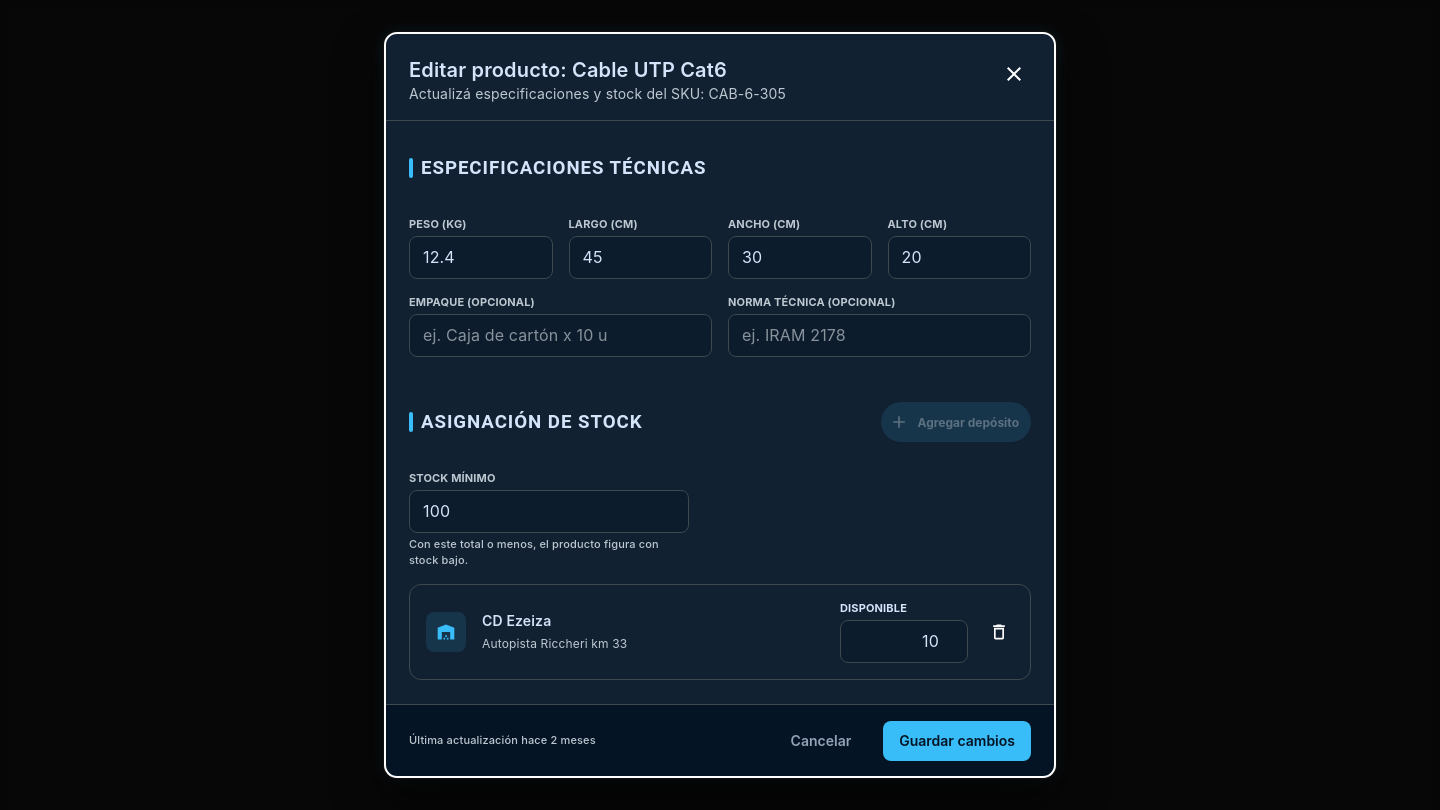
Test case: EditProductModal › low stock threshold › does not take a fraction of a unit
This screenshot has width=1440, height=810.
(page scrolled)
Replace the text in the number field labelled "Stock mínimo" with "2.5" at (549, 512), box [409, 490, 689, 533]
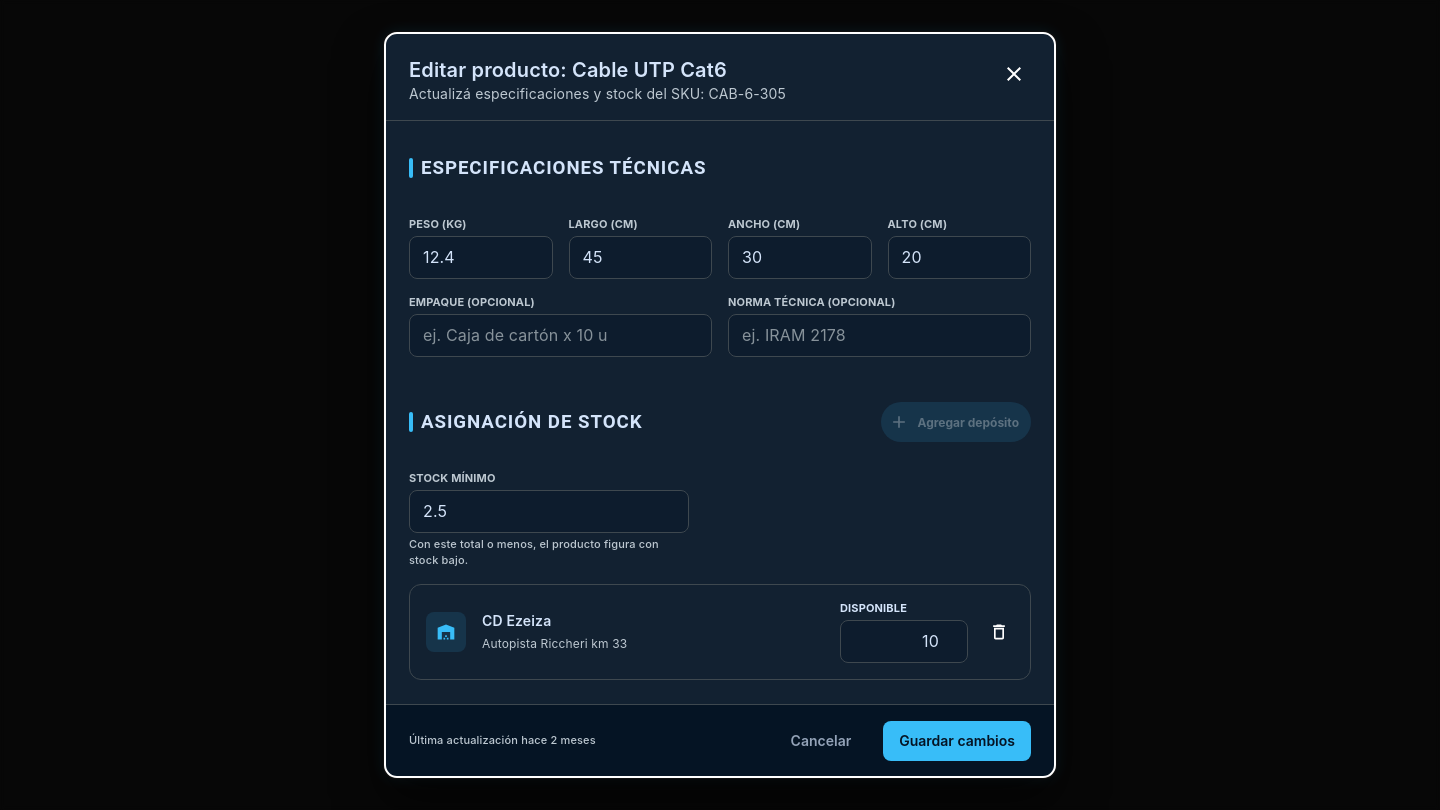
Click the button "Guardar cambios" at (957, 741), box [883, 721, 1031, 761]
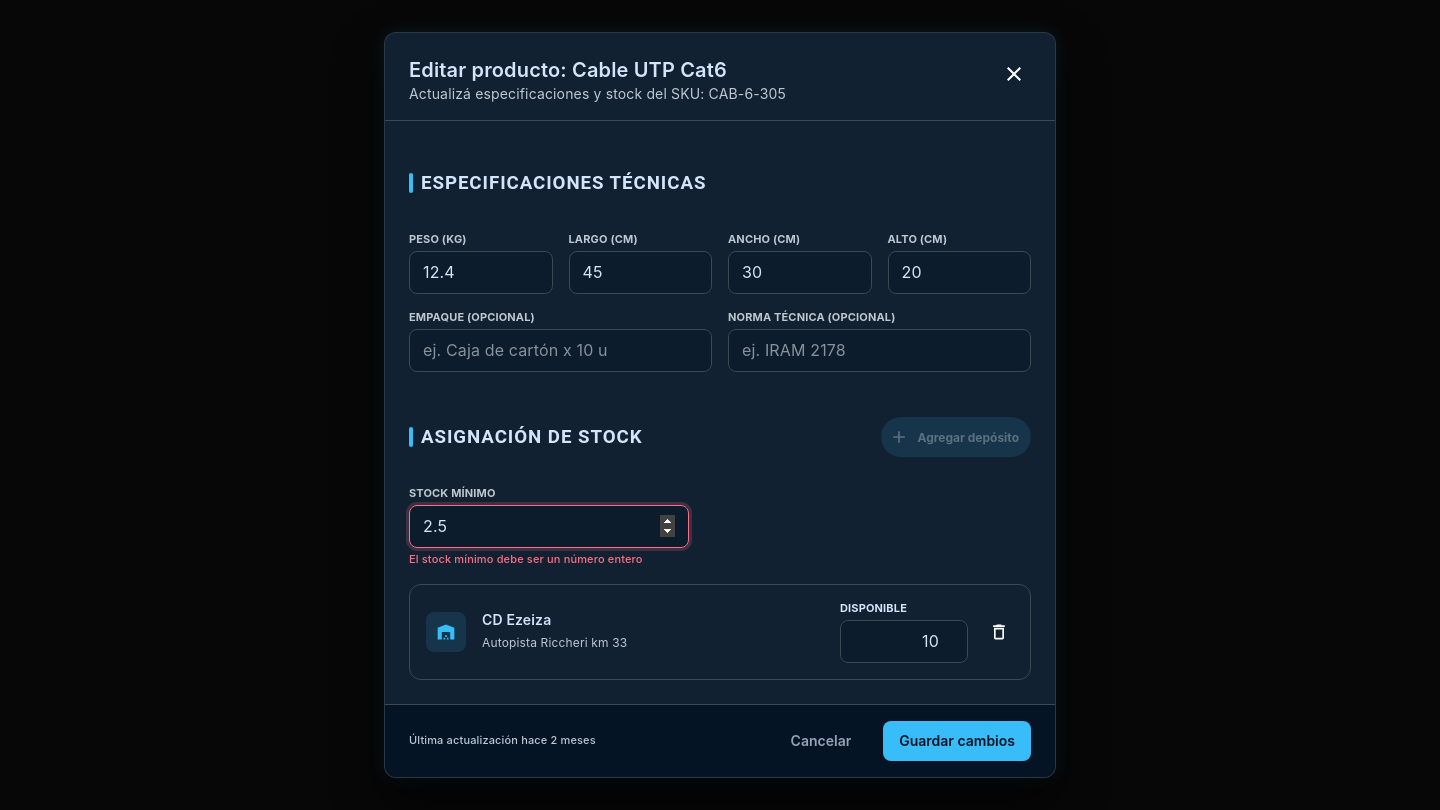
Expected: the text "El stock mínimo debe ser un número entero" is shown, [409, 552, 643, 566]
